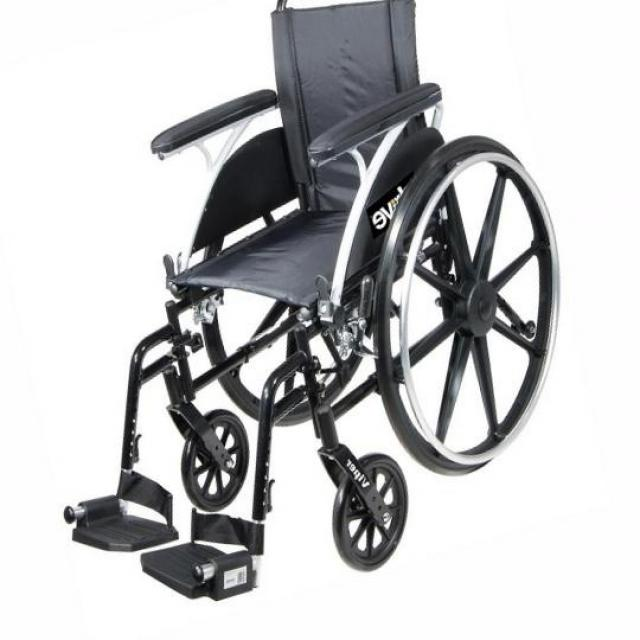wheelchair: (48, 2, 582, 629)
